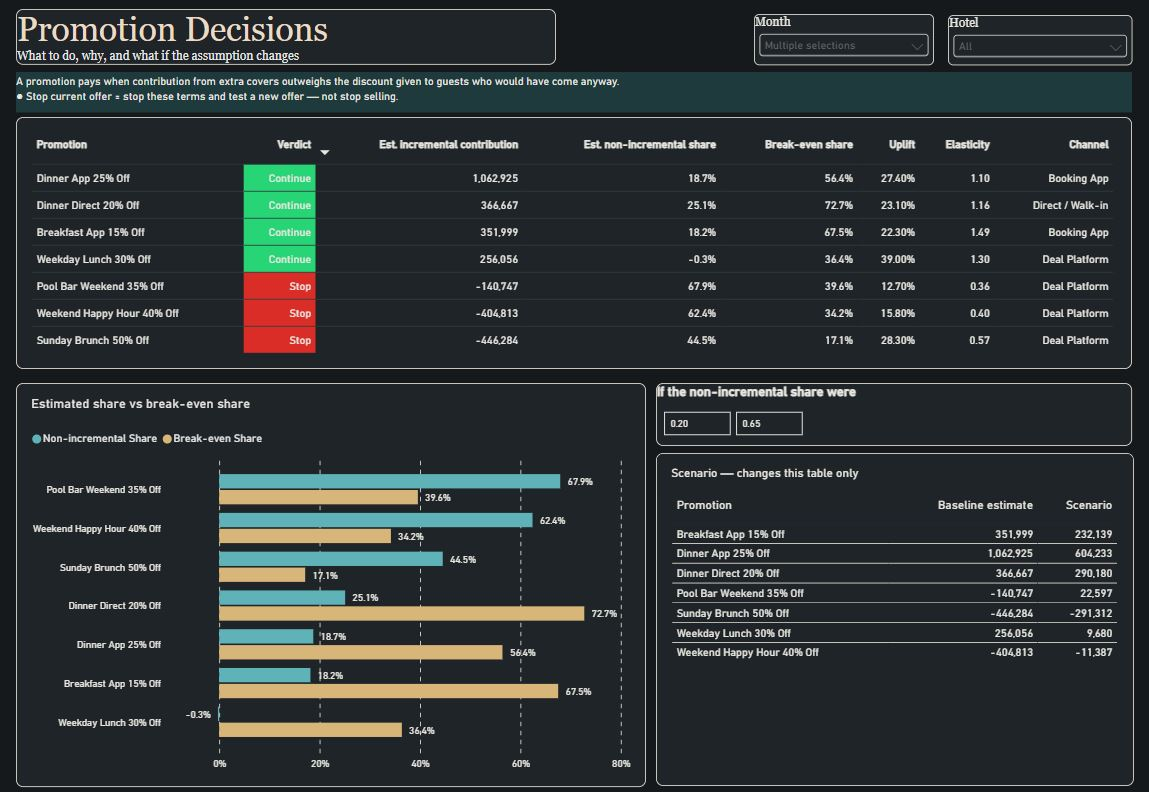

Layout of this report page (visuals, bound fields, positions):
{"tool":"powerbi","page":{"name":"Promotion Decisions","canvas":[1300,980],"ordinal":1},"visuals":[{"type":"textbox","box":[20,10,600,62],"z":0},{"type":"slicer","title":"Month","fields":{"Values":["DimDate.MonthYear"]},"box":[840,15.6,200,56.7],"z":1000},{"type":"slicer","title":"Hotel","fields":{"Values":["DimHotel.HotelName"]},"box":[1055,16.2,205,56.2],"z":2000},{"type":"textbox","box":[20,80,1240,45],"z":3000},{"type":"tableEx","fields":{"Values":["DimPromo.PromoName","Promo decision.Promo Verdict","Promo decision.Incremental Contribution","Promo decision.Non-incremental Share","Promo decision.Break-even Share","Promo decision.Promo Uplift %","Promo decision.Discount Elasticity","vw_promo_uplift.ChannelName"]},"box":[20,130,1240,280],"z":4000},{"type":"clusteredBarChart","title":"Estimated share vs break-even share","fields":{"Category":["DimPromo.PromoName"],"Y":["Promo decision.Non-incremental Share","Promo decision.Break-even Share"]},"box":[20,425,700,448.8],"z":5000},{"type":"slicer","title":"If the non-incremental share were","fields":{"Values":["Cannibalisation Assumption.Cannibalisation Assumption"]},"box":[731.2,425,528.8,70],"z":6000},{"type":"tableEx","title":"Scenario — changes this table only","fields":{"Values":["DimPromo.PromoName","Promo decision.Incremental Contribution","Promo decision.Incremental Contribution (What-if)"]},"box":[731.2,503.8,531.2,370],"z":7000}]}

Visuals, with their boxes on the page's 1300x980 design canvas (x1, y1, x2, y2). These are canvas units, not pixel positions in the 1149x792 screenshot, which may show the page scaled, cropped or inside an application window:
textbox: <bbox>20, 10, 620, 72</bbox>
"Month" slicer: <bbox>840, 16, 1040, 72</bbox>
"Hotel" slicer: <bbox>1055, 16, 1260, 72</bbox>
textbox: <bbox>20, 80, 1260, 125</bbox>
tableEx - DimPromo.PromoName x Promo decision.Promo Verdict: <bbox>20, 130, 1260, 410</bbox>
"Estimated share vs break-even share" clusteredBarChart: <bbox>20, 425, 720, 874</bbox>
"If the non-incremental share were" slicer: <bbox>731, 425, 1260, 495</bbox>
"Scenario — changes this table only" tableEx: <bbox>731, 504, 1262, 874</bbox>
